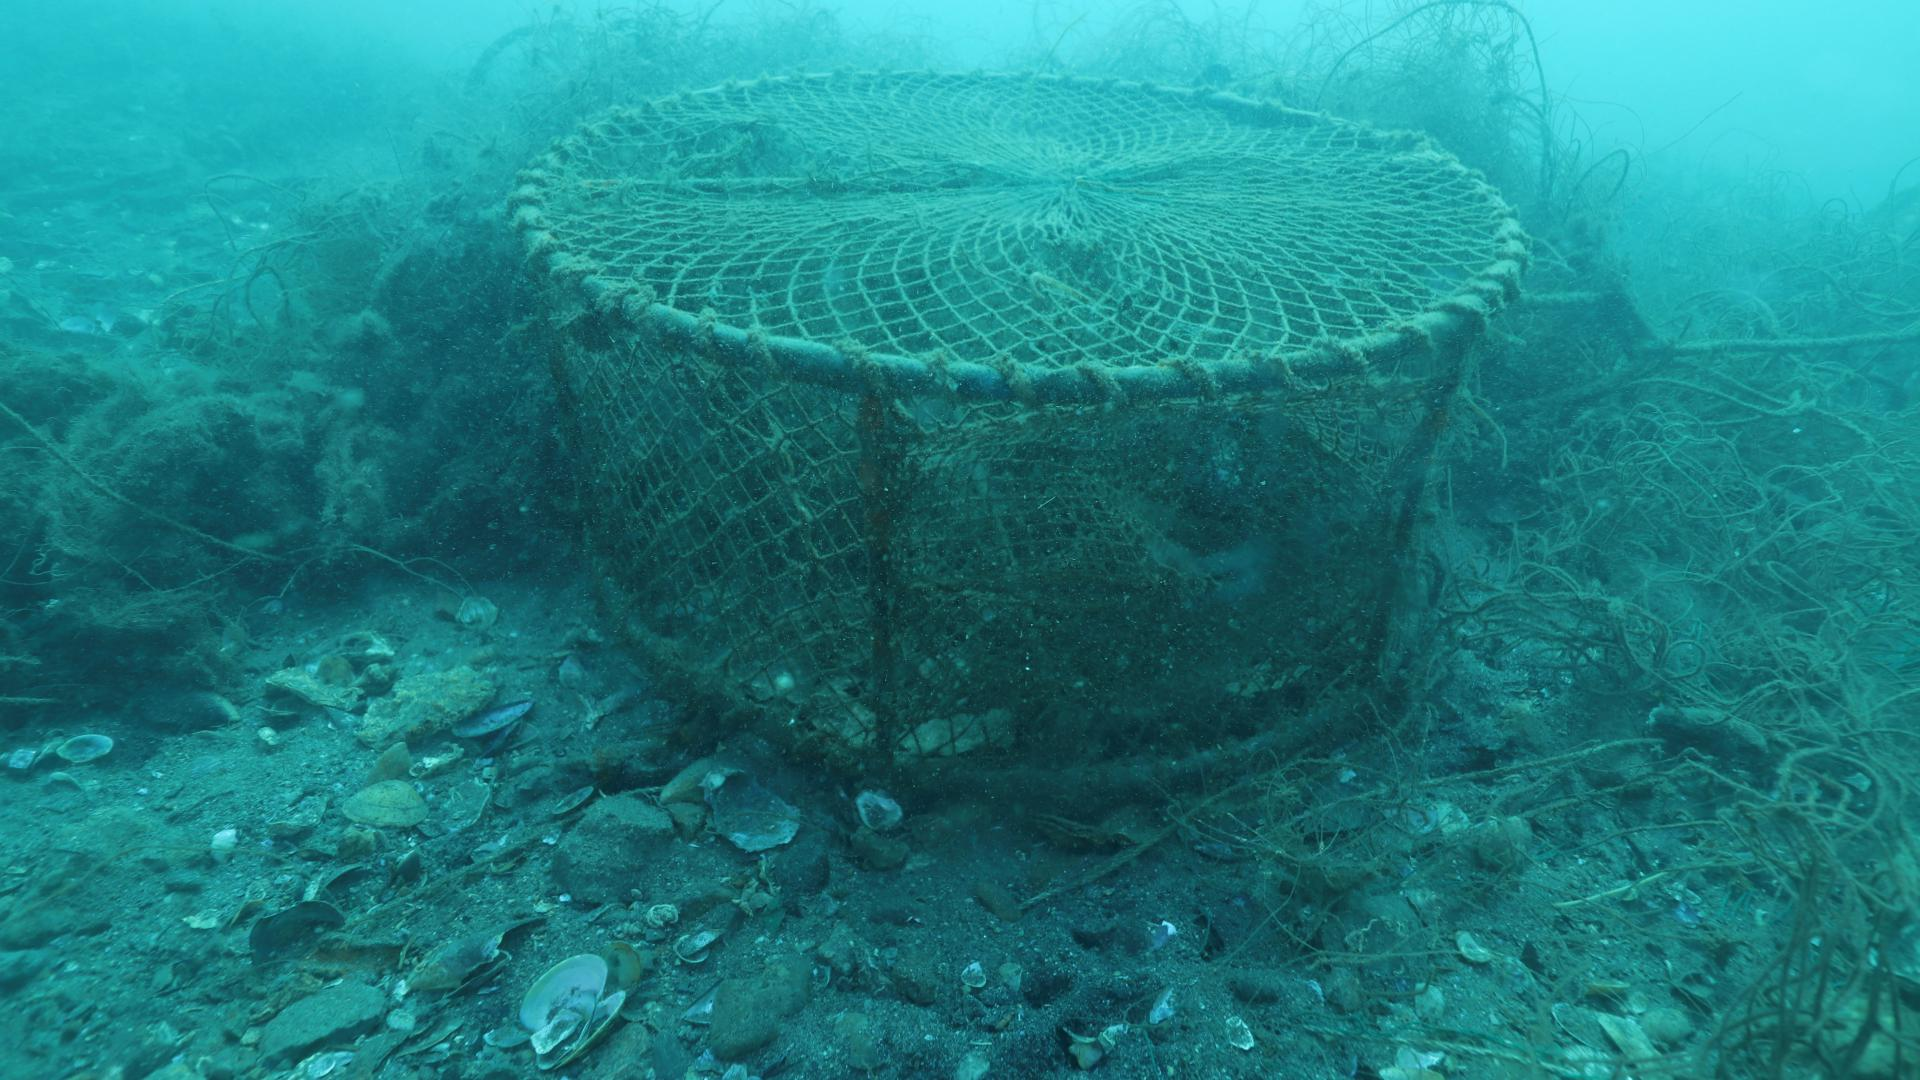circular fish trap: (512, 61, 1526, 802)
